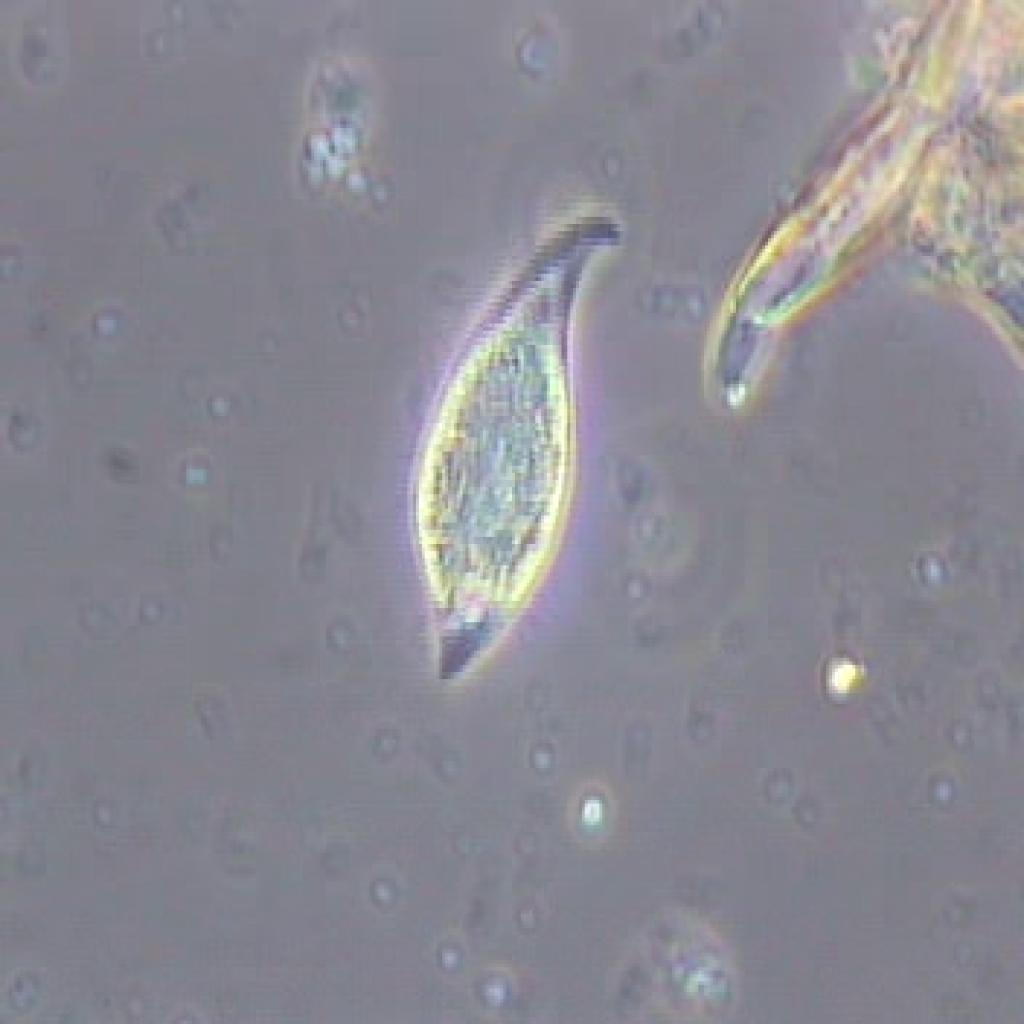Pristina: (413, 153, 623, 732)
